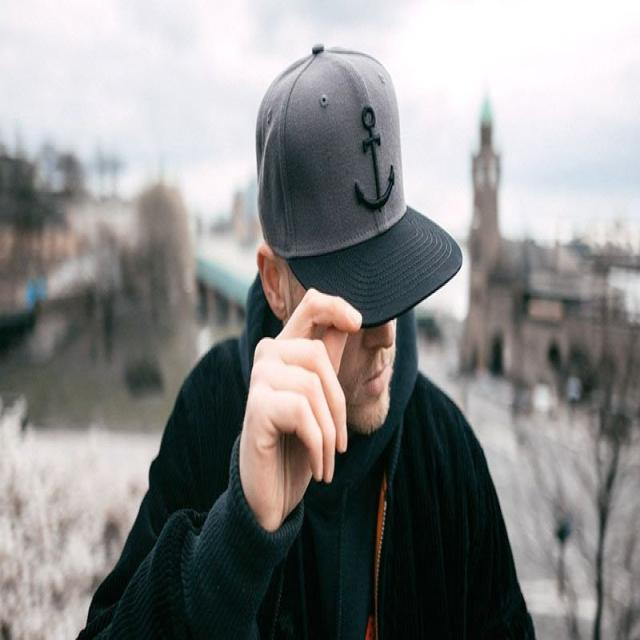3_gorra: (255, 44, 462, 326)
